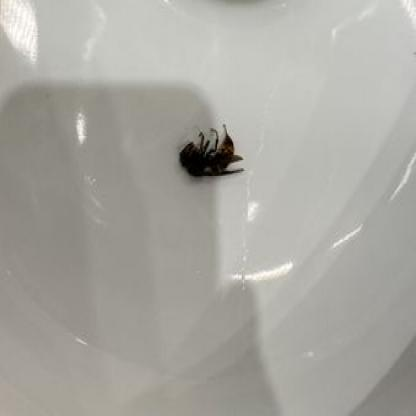Asian Hornet: (178, 121, 247, 183)
